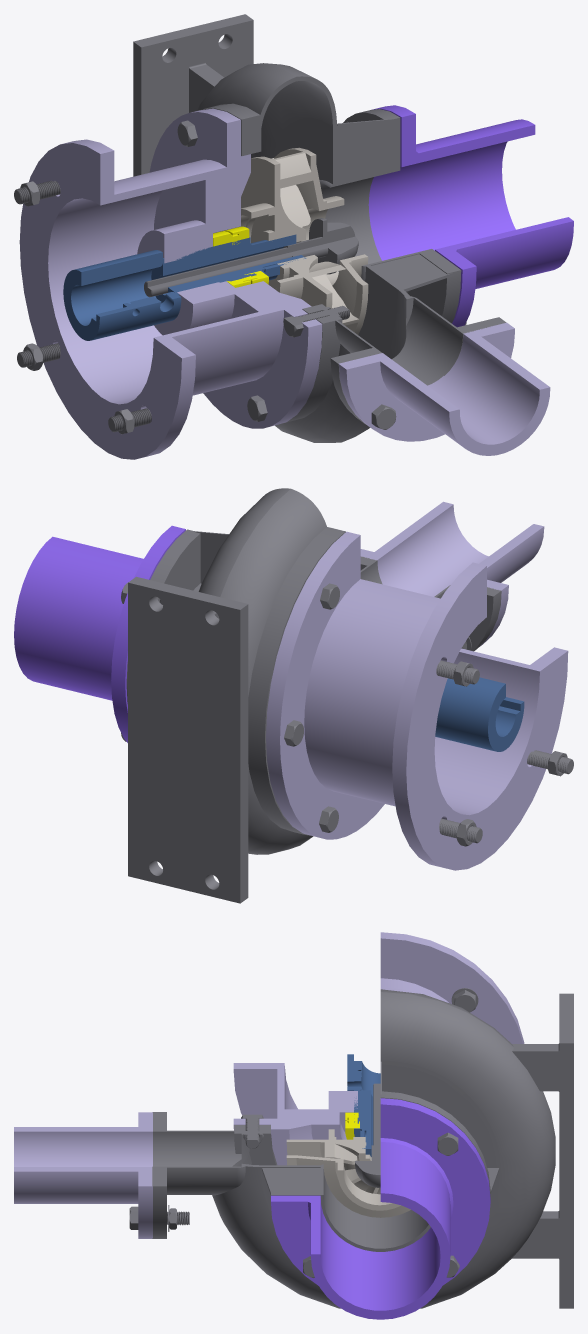
Rendered from Pumpxy-fbx.fbx.
3 renders of one model, top to bottom at view 1: azimuth 30°, elevation 25°; view 2: azimuth 150°, elevation 25°; view 3: azimuth 270°, elevation 25°, orthographic. The views are drawn at different scales.
Parts seen in each view (by area): view 1: Drum, /var/mobile/Containers/Data/Application/5C7D4EF0-970E-43D7-A, Front, pump impeller.SLDPRT, Big Shaft, Top bolts, Volute bolts, Bearing; view 2: Drum, /var/mobile/Containers/Data/Application/5C7D4EF0-970E-43D7-A, Front, Big Shaft, Top bolts, Volute bolts; view 3: /var/mobile/Containers/Data/Application/5C7D4EF0-970E-43D7-A, Front, Drum, pump impeller.SLDPRT, Big Shaft, Volute bolts, Top bolts.
Boxes of the visible parts, x1,y1,x2,y2 form: Drum: (19,108,322,459); /var/mobile/Containers/Data/Application/5C7D4EF0-970E-43D7-A: (133,14,506,442); Front: (339,105,573,455); pump impeller.SLDPRT: (224,147,368,334); Big Shaft: (63,234,306,340); Top bolts: (14,180,396,434); Volute bolts: (177,120,466,421); Bearing: (213,226,268,287); Drum: (266,531,568,870); /var/mobile/Containers/Data/Application/5C7D4EF0-970E-43D7-A: (126,488,501,903); Front: (14,501,544,742); Big Shaft: (435,677,524,751); Top bolts: (436,637,573,846); Volute bolts: (121,583,339,832); /var/mobile/Containers/Data/Application/5C7D4EF0-970E-43D7-A: (152,989,573,1308); Front: (14,1098,490,1319); Drum: (233,932,524,1165); pump impeller.SLDPRT: (286,1129,410,1217); Big Shaft: (347,1054,380,1156); Volute bolts: (241,1114,459,1277); Top bolts: (129,988,478,1231).
Bounding box in the file's own units: 33.53 × 24 × 38.24.
